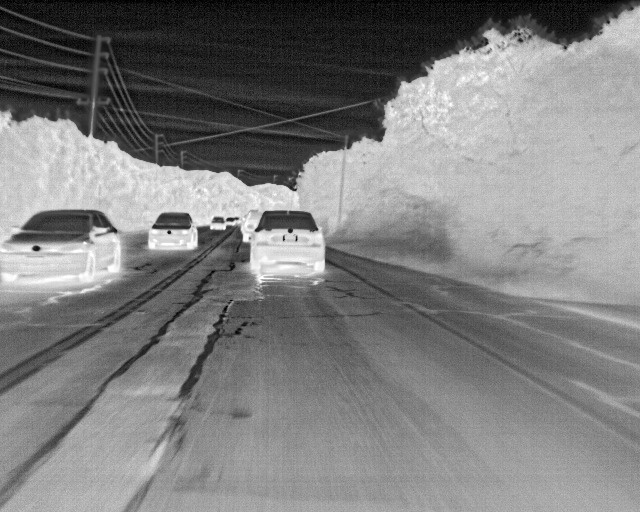vehicle: (1, 210, 122, 295), (251, 210, 326, 279), (149, 211, 199, 250), (209, 215, 228, 232)
